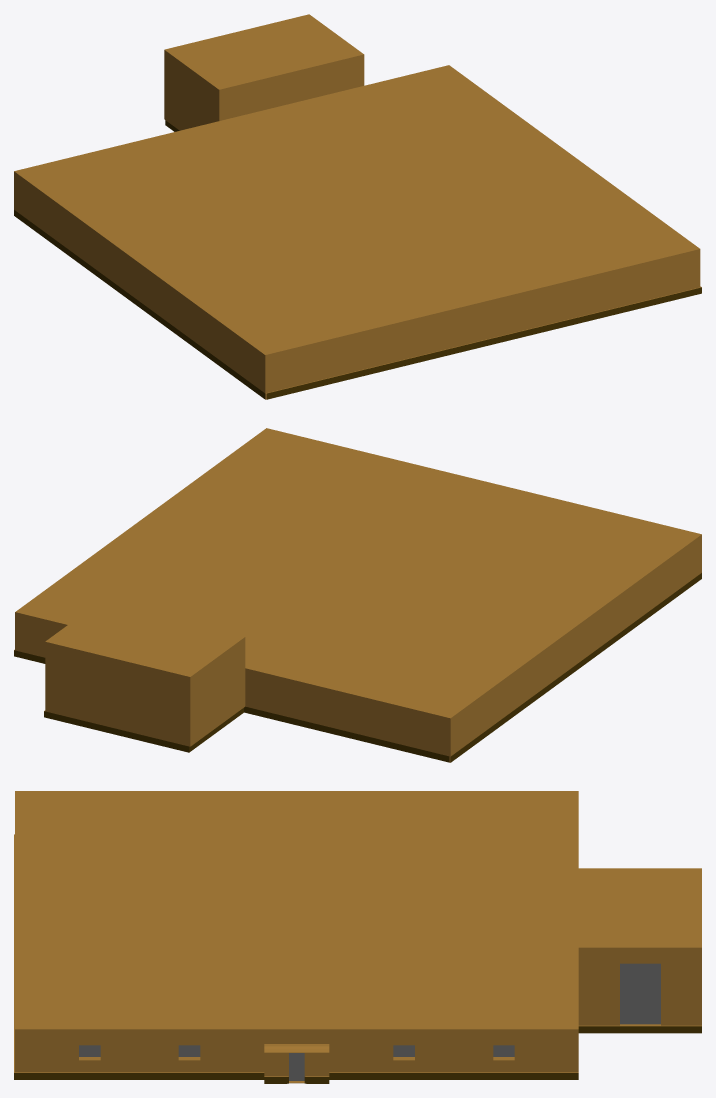
File: Comisaria.fbx
3 renders of one model, top to bottom at view 1: azimuth 30°, elevation 25°; view 2: azimuth 150°, elevation 25°; view 3: azimuth 270°, elevation 25°, orthographic. The views are drawn at different scales.
Visible parts, largest first — view 1: Comisaria; view 2: Comisaria; view 3: Comisaria.
Part boxes in pixels (x1,y1,x2,y2): Comisaria: (14,14,701,399); Comisaria: (14,428,701,762); Comisaria: (14,791,701,1083).
Bounding box in the file's own units: 30.59 × 5 × 36.61.
